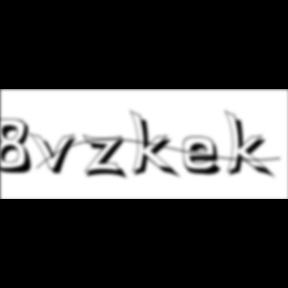8: (0, 117, 38, 176)
e: (182, 135, 228, 178)
k: (224, 108, 278, 181), (130, 108, 182, 181)
v: (29, 131, 83, 177)
z: (83, 134, 132, 182)
